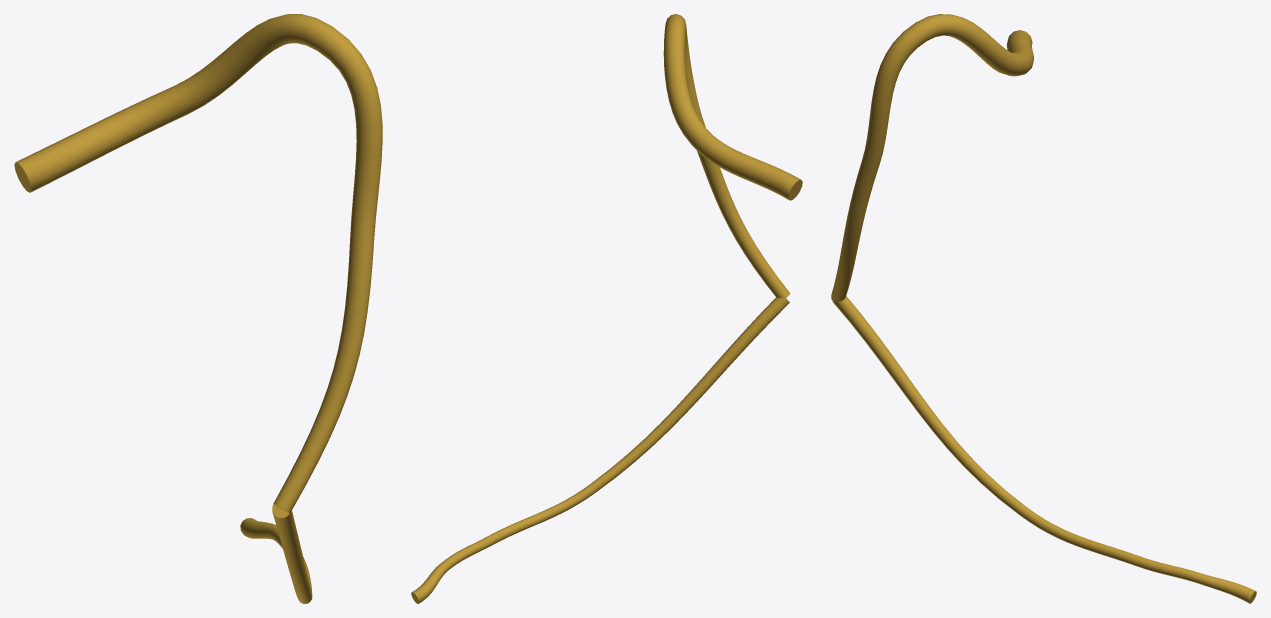
The picture shows the model from 3 angles, left to right: view 1: azimuth 30°, elevation 25°; view 2: azimuth 150°, elevation 25°; view 3: azimuth 270°, elevation 25°; orthographic projection. The views are drawn at different scales.
Parts seen in each view (by area): view 1: 左侧三叉神经; view 2: 左侧三叉神经; view 3: 左侧三叉神经.
Part boxes in pixels (x1,y1,x2,y2): 左侧三叉神经: [14, 14, 382, 603]; 左侧三叉神经: [411, 14, 802, 603]; 左侧三叉神经: [831, 14, 1256, 603].
Bounding box in the file's own units: 0.0276 × 0.0476 × 0.0346.
